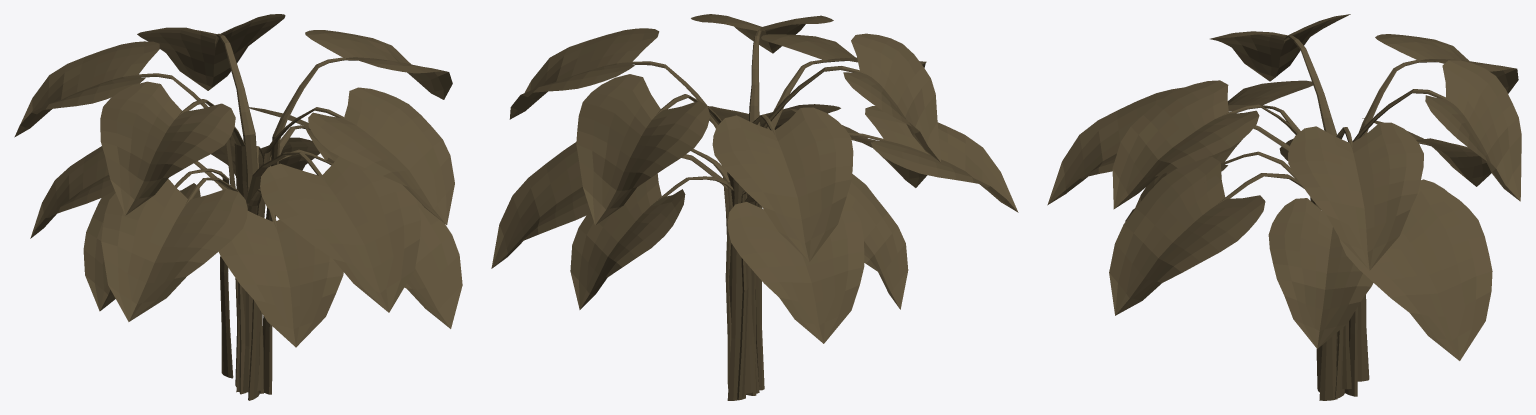
File: SM_plant00.fbx
The picture shows the model from 3 angles, left to right: view 1: azimuth 30°, elevation 25°; view 2: azimuth 150°, elevation 25°; view 3: azimuth 270°, elevation 25°; orthographic projection. The views are drawn at different scales.
Parts seen in each view (by area): view 1: Cylinder.025; view 2: Cylinder.025; view 3: Cylinder.025.
Part boxes in pixels (x1,y1,x2,y2): Cylinder.025: [14, 14, 462, 400]; Cylinder.025: [491, 14, 1018, 400]; Cylinder.025: [1047, 14, 1521, 400].
Bounding box in the file's own units: 371 × 288 × 377.
